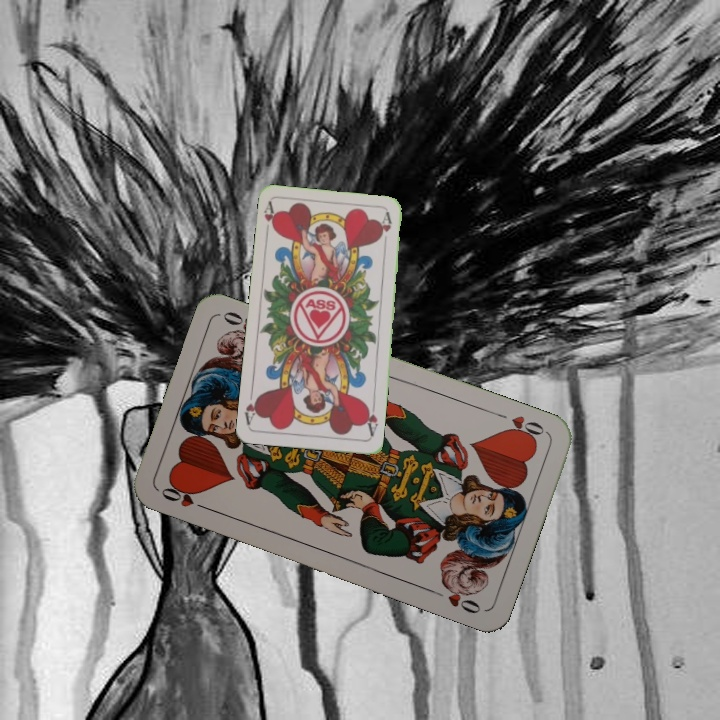HA: (260, 199, 280, 239), (361, 398, 380, 439)
HO: (492, 409, 549, 444), (157, 481, 213, 513)
